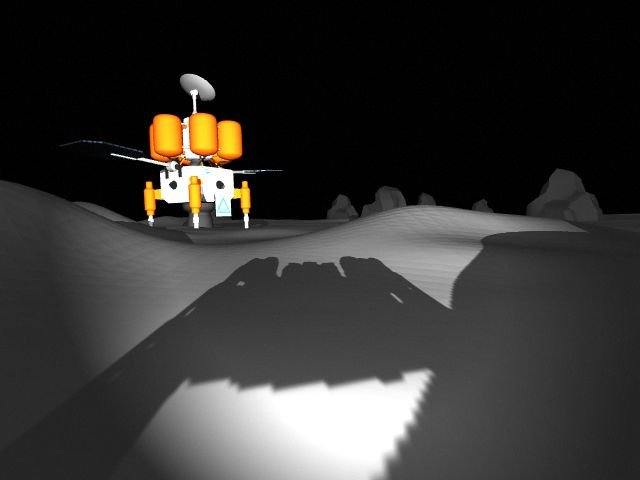homebase: (60, 67, 289, 234)
